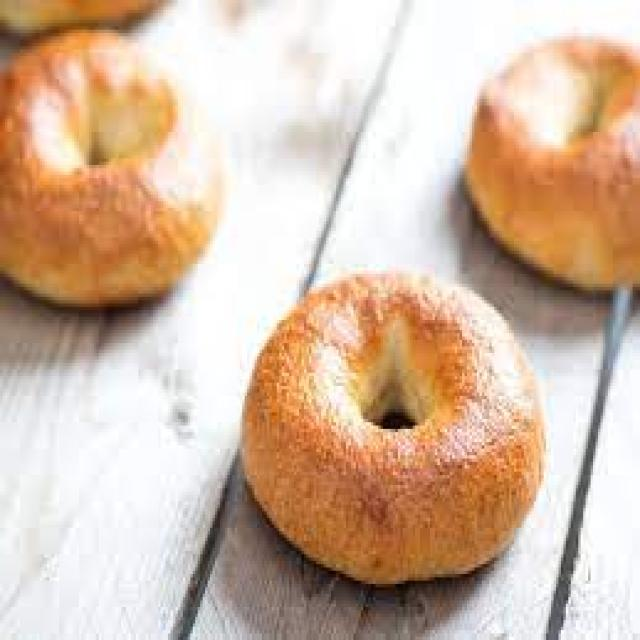Bagel: (243, 274, 544, 583), (0, 32, 221, 306)
